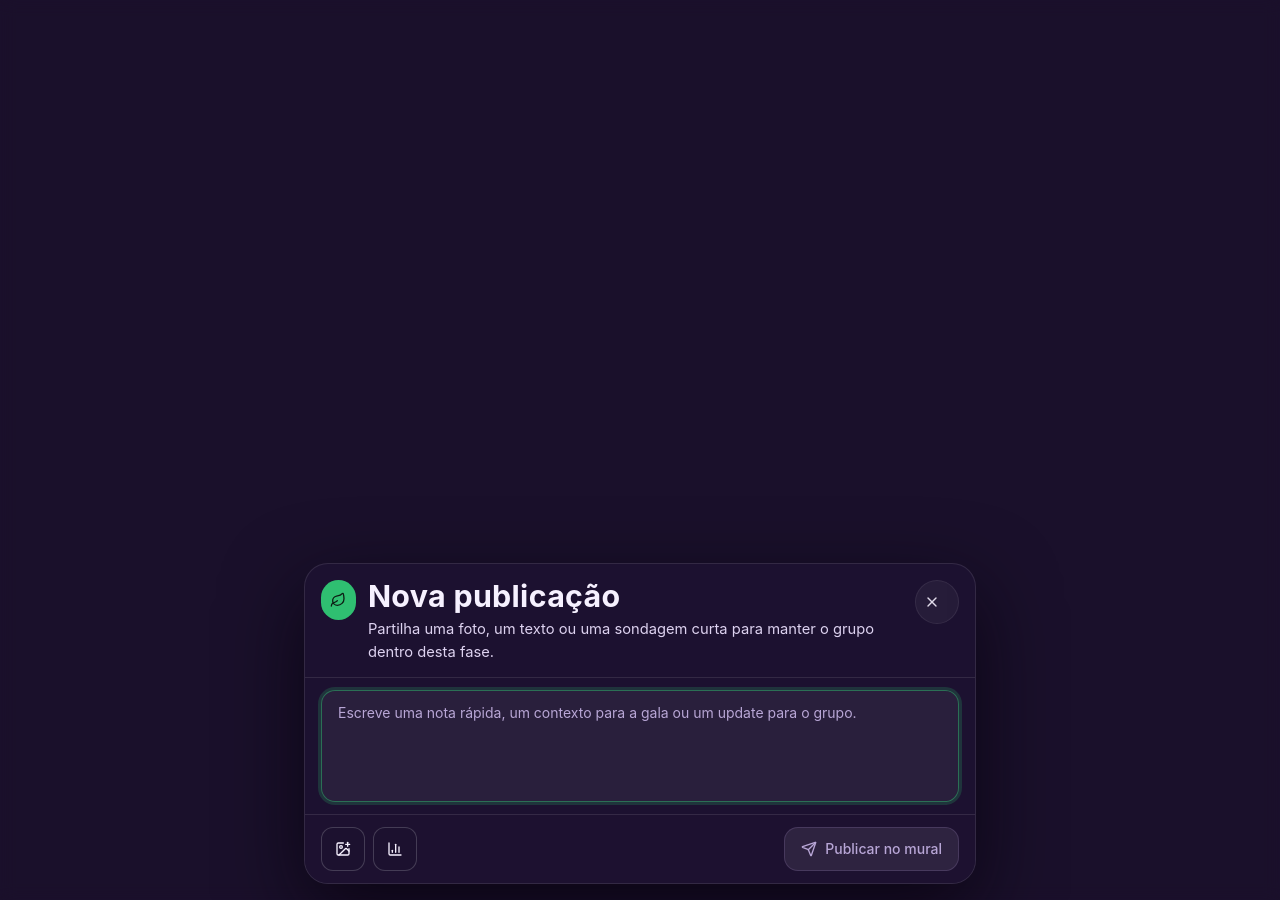
Test: CanhoesComposeSheet › needs a question and two options before publishing a poll
In the text box with placeholder "Escreve uma nota rápida": (640, 746) [321,690,959,802], type "Votem"
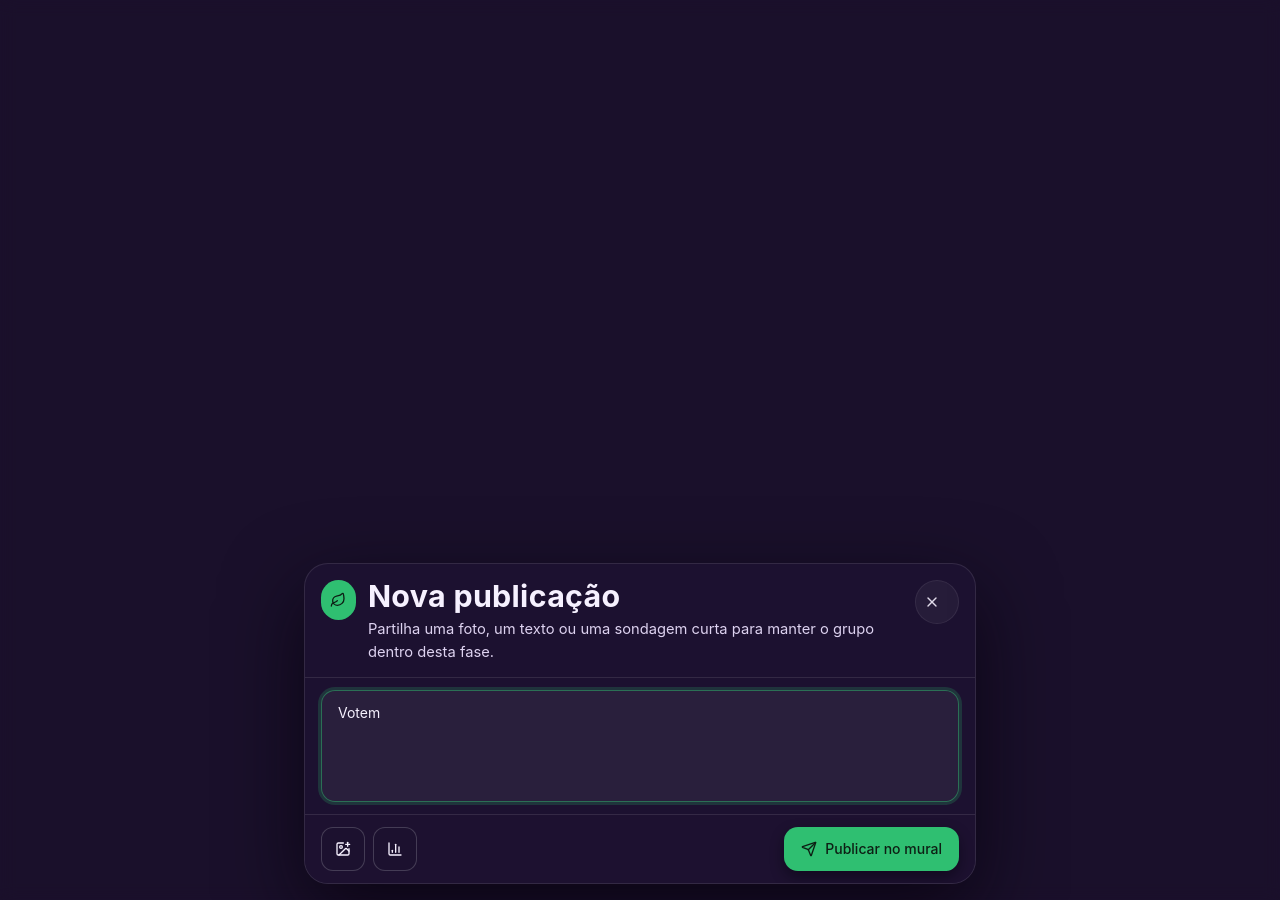
Click the button named "Sondagem": (395, 849) [373,827,417,871]
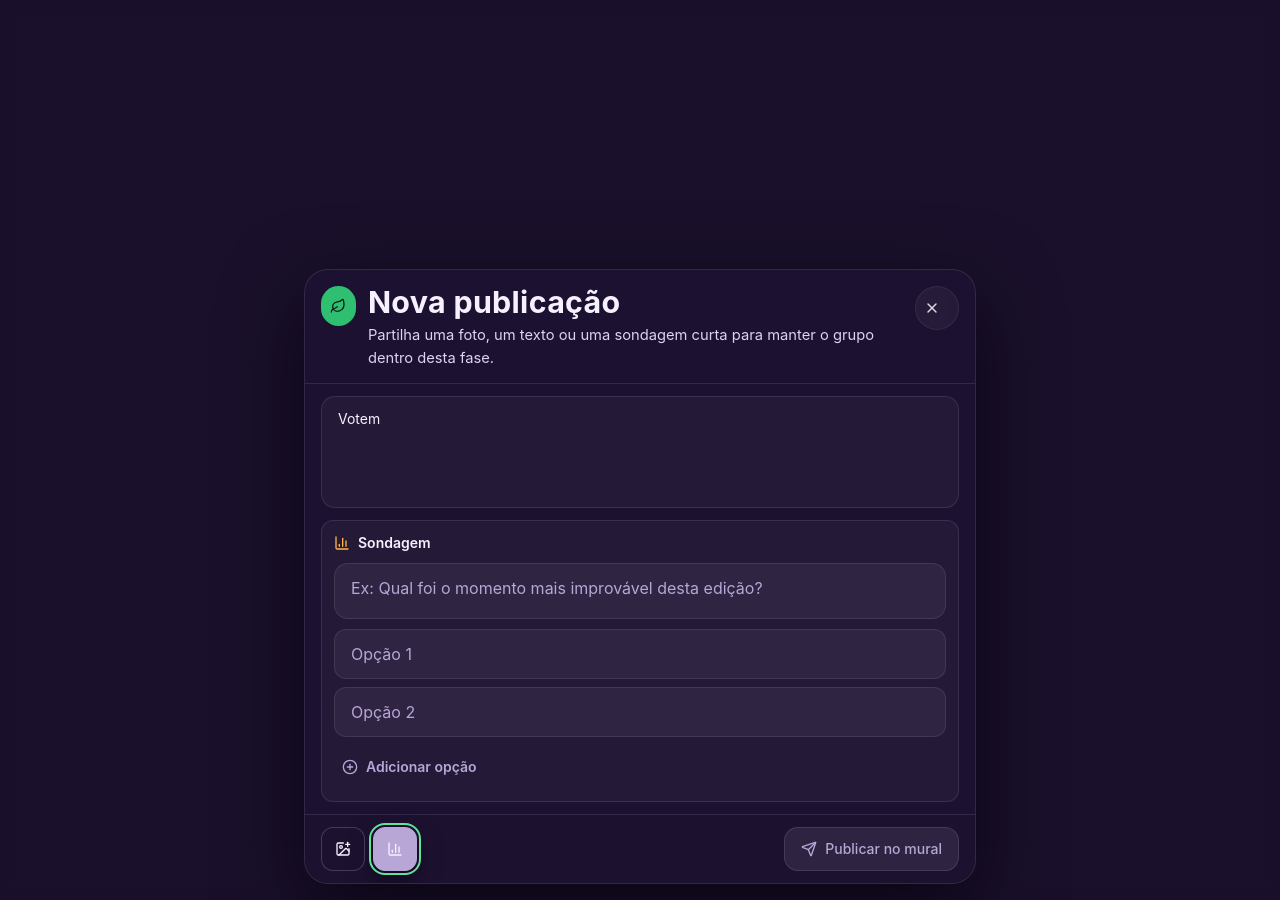
Expected: the button "Publicar no mural" is disabled, [784,827,959,871]
In the text box with placeholder "Ex: Qual foi o momento mais improvável desta edição?": (640, 591) [334,563,946,619], type "Quem ganha?"
In the field with placeholder "Opção 1": (640, 654) [334,629,946,679], type "Ana"
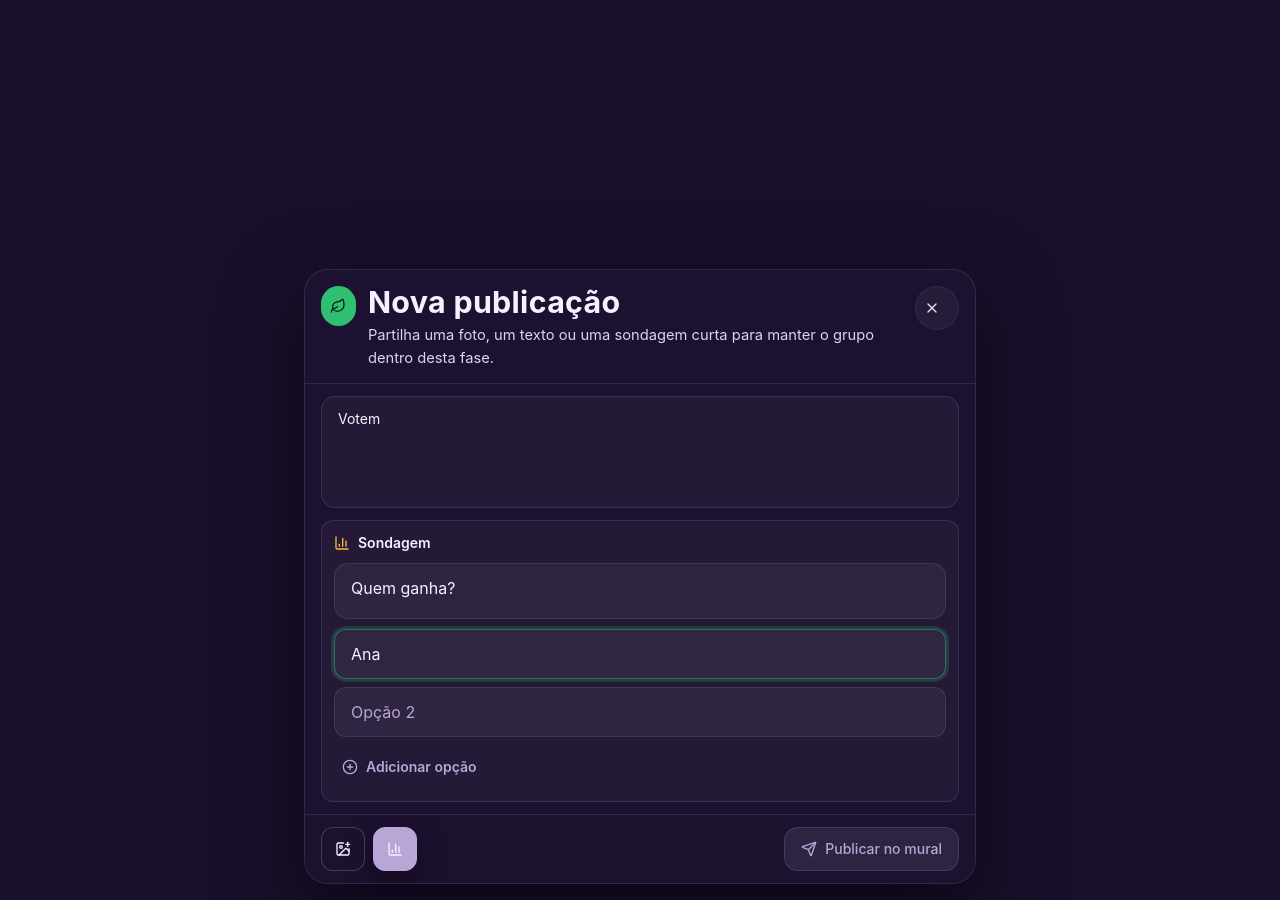
Expected: the button "Publicar no mural" is disabled, [784,827,959,871]
In the field with placeholder "Opção 2": (640, 712) [334,687,946,737], type "Rui"
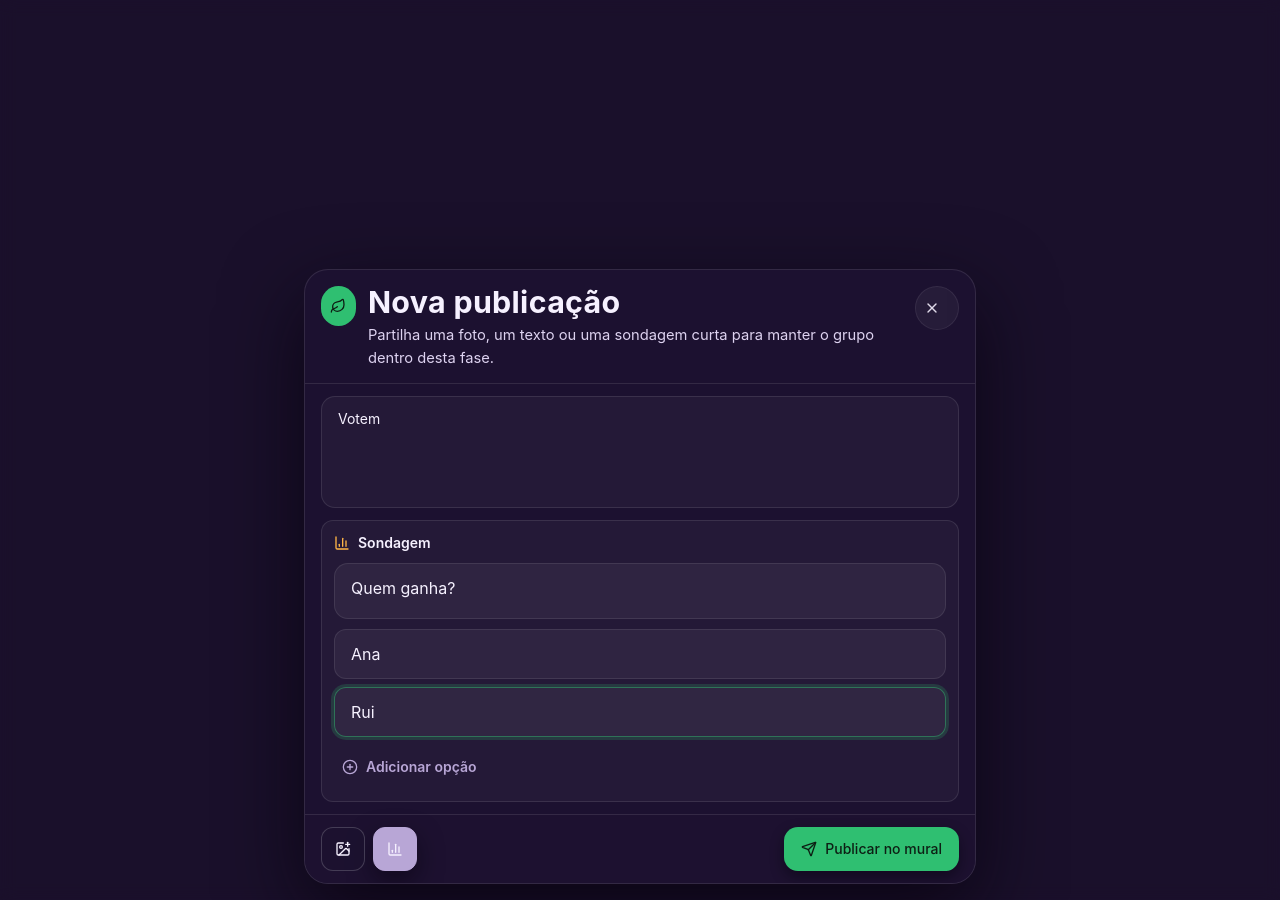
Click the button "Adicionar opção": (409, 767) [334,745,484,789]
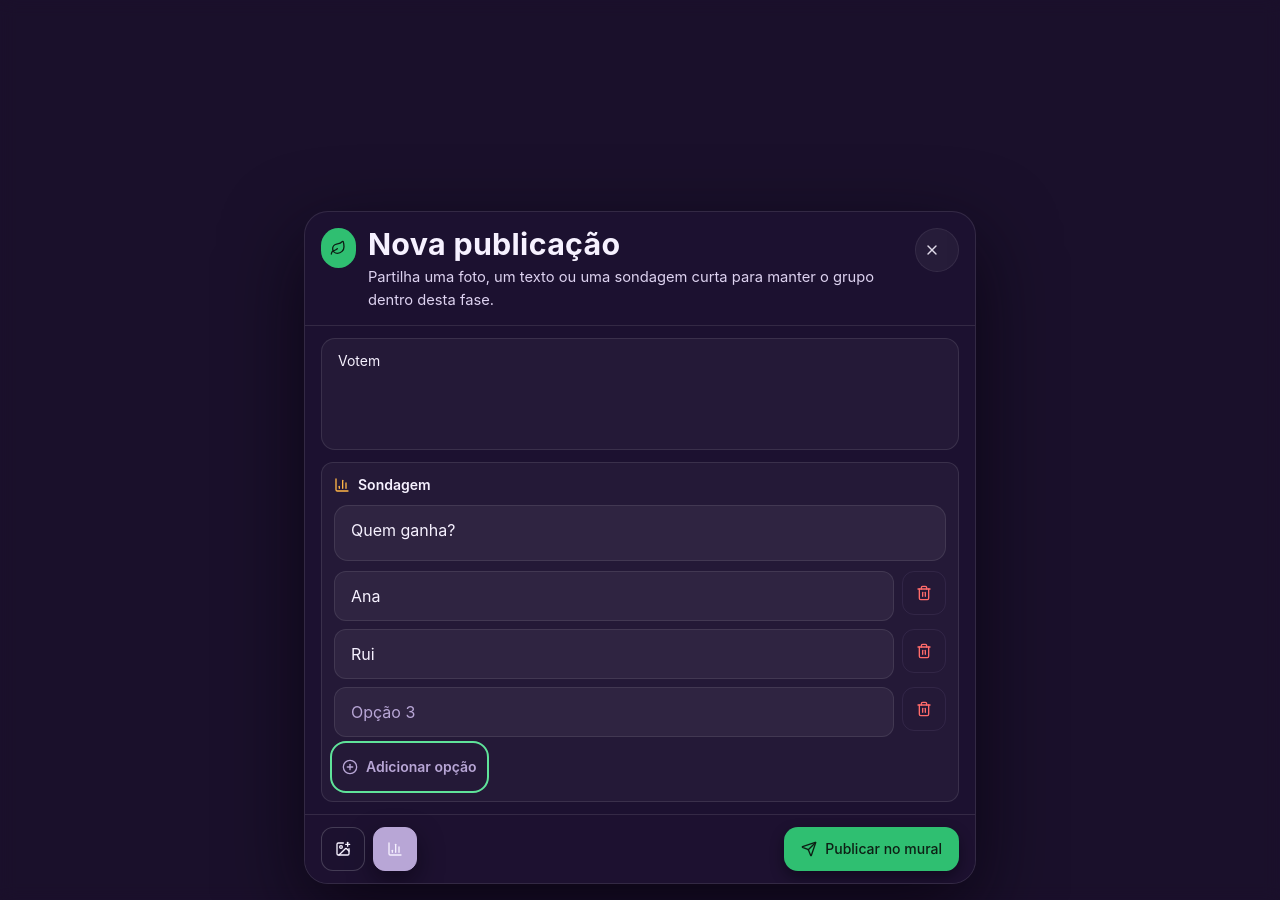
Click the button "Publicar no mural": (872, 849) [784,827,959,871]
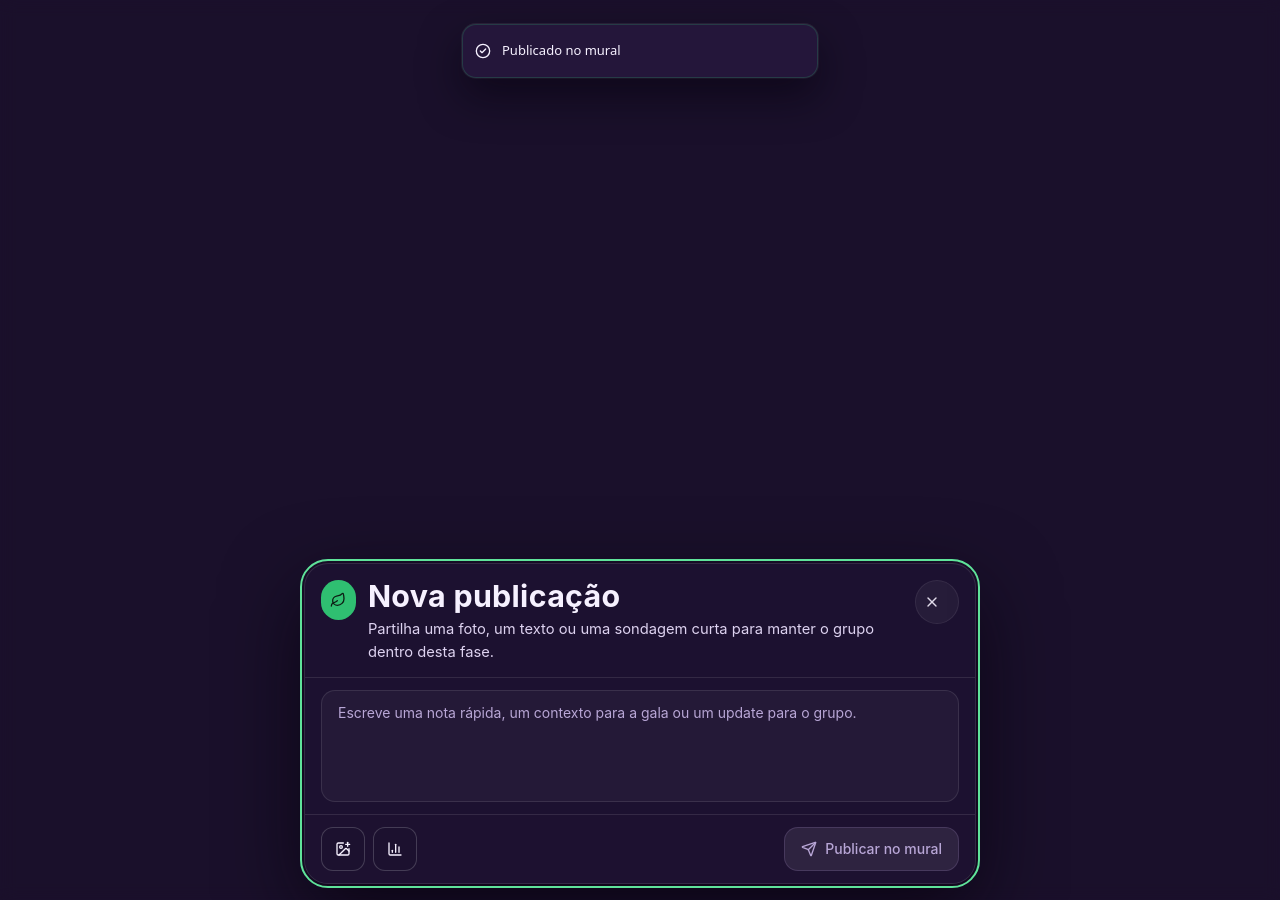
Expected: the text "Publicado no mural" is shown, [502,41,621,60]
